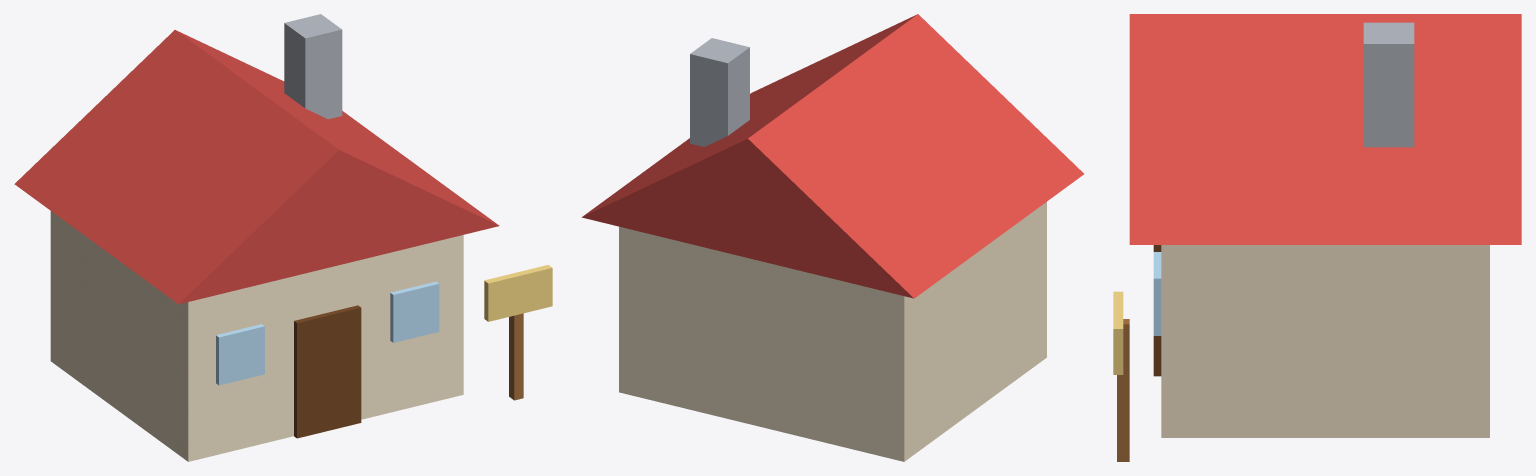
File: b_cottage.glb
3 views of the same model, side by side, from view 1: azimuth 30°, elevation 25°; view 2: azimuth 150°, elevation 25°; view 3: azimuth 270°, elevation 25° (orthographic). The views are drawn at different scales.
Parts seen in each view (by area): view 1: Roof, Walls, Door, Chimney, SignBoard, Window1, Window-1, Sign; view 2: Roof, Walls, Chimney; view 3: Roof, Walls, Chimney, Sign, SignBoard, Window1, Door.
Part boxes in pixels (x1,y1,x2,y2): Roof: (14,30,499,304); Walls: (50,211,463,461); Door: (294,305,361,438); Chimney: (284,14,342,119); SignBoard: (484,265,552,321); Window1: (390,281,439,342); Window-1: (216,324,264,385); Sign: (509,313,523,400); Roof: (581,14,1083,298); Walls: (619,202,1046,461); Chimney: (690,38,749,146); Roof: (1129,14,1521,244); Walls: (1161,245,1489,437); Chimney: (1363,22,1414,147); Sign: (1117,319,1129,461); SignBoard: (1113,291,1123,374); Window1: (1153,252,1161,335); Door: (1153,245,1161,376).
Size of the model in its own units: 4 by 3.25 by 3.23.
